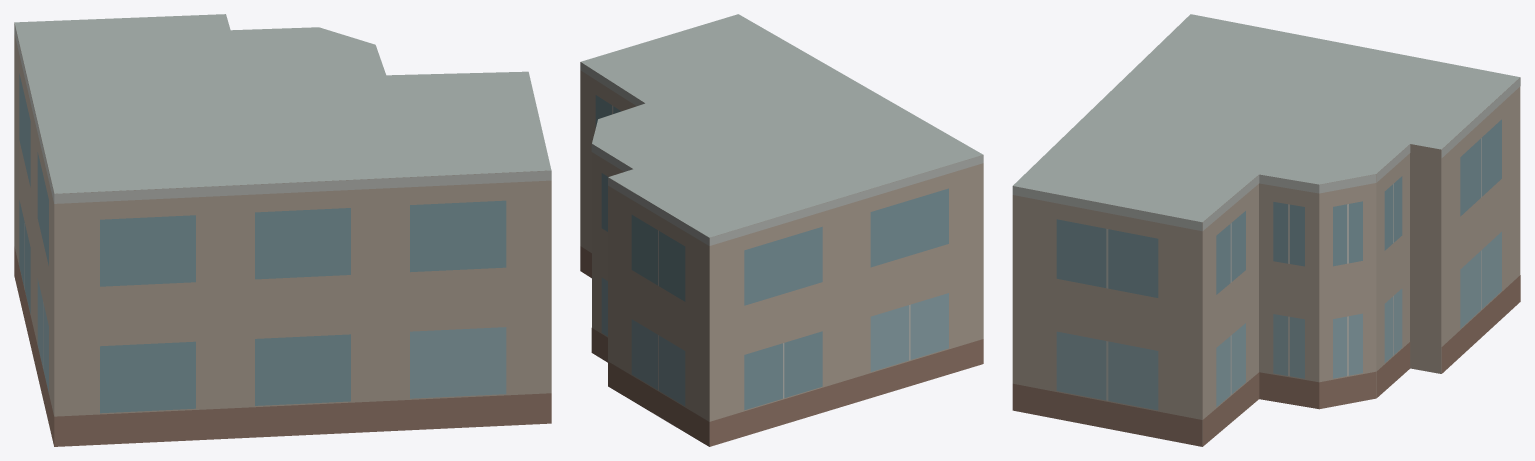
File: survey-upis-32659970.glb
The picture shows the model from 3 angles, left to right: view 1: azimuth 30°, elevation 25°; view 2: azimuth 150°, elevation 25°; view 3: azimuth 270°, elevation 25°; orthographic projection. The views are drawn at different scales.
Parts seen in each view (by area): view 1: survey-upis-32659970.tmp; view 2: survey-upis-32659970.tmp; view 3: survey-upis-32659970.tmp.
Boxes of the visible parts, x1,y1,x2,y2 form: survey-upis-32659970.tmp: (14,14,551,446); survey-upis-32659970.tmp: (580,14,983,446); survey-upis-32659970.tmp: (1012,14,1520,446).
Bounding box in the file's own units: 12.15 × 6.1 × 12.51.
